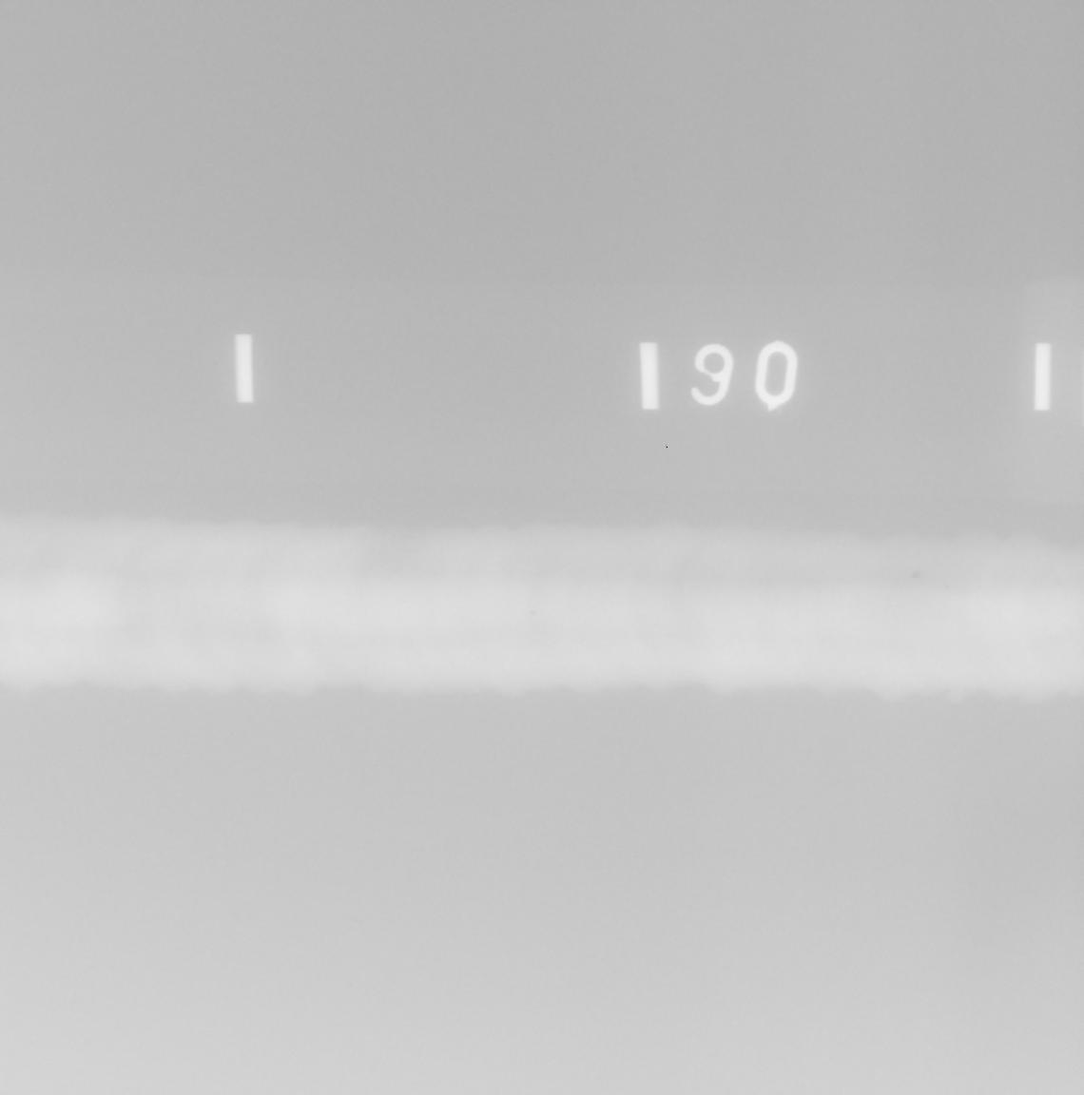Pore/Porosity: (912, 571, 921, 579), (203, 605, 212, 611), (529, 611, 536, 615), (945, 585, 950, 590)
